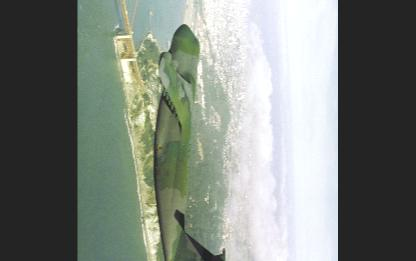C17: (153, 22, 226, 260)
